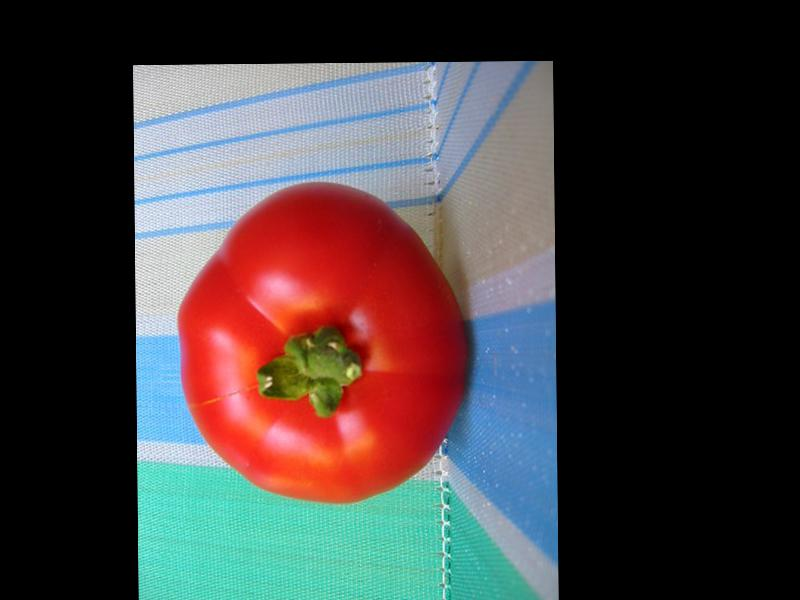Tomato: (176, 183, 470, 505)
